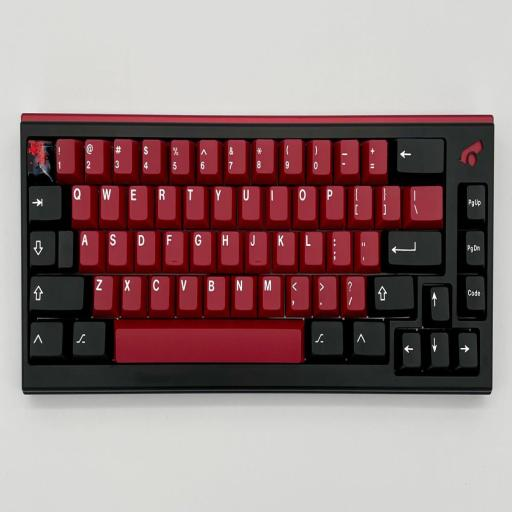keyboard: (17, 98, 499, 404)
